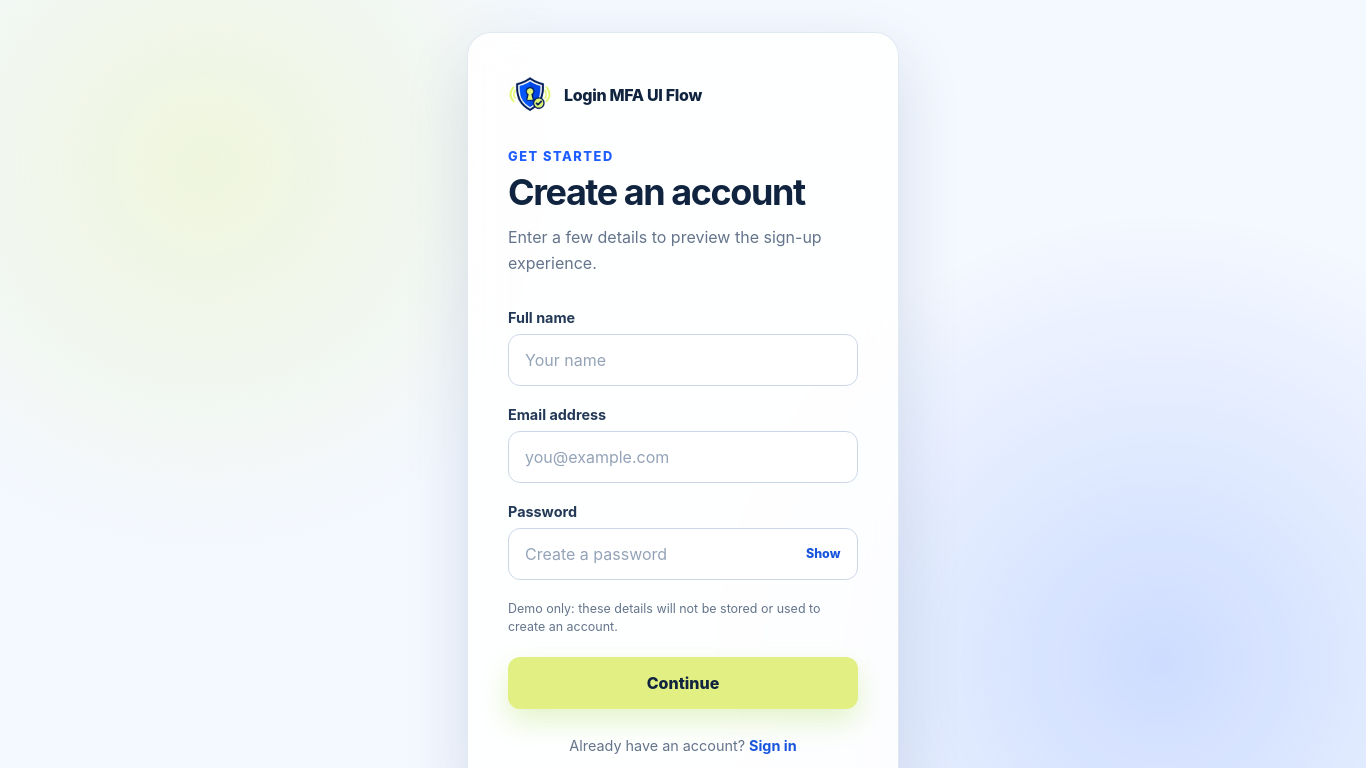
Test: application authentication flow › shows every applicable Sign Up name validation error
The image size is (1366, 768).
In the field labelled "Full name": (683, 360) [508, 334, 858, 386], type "1"
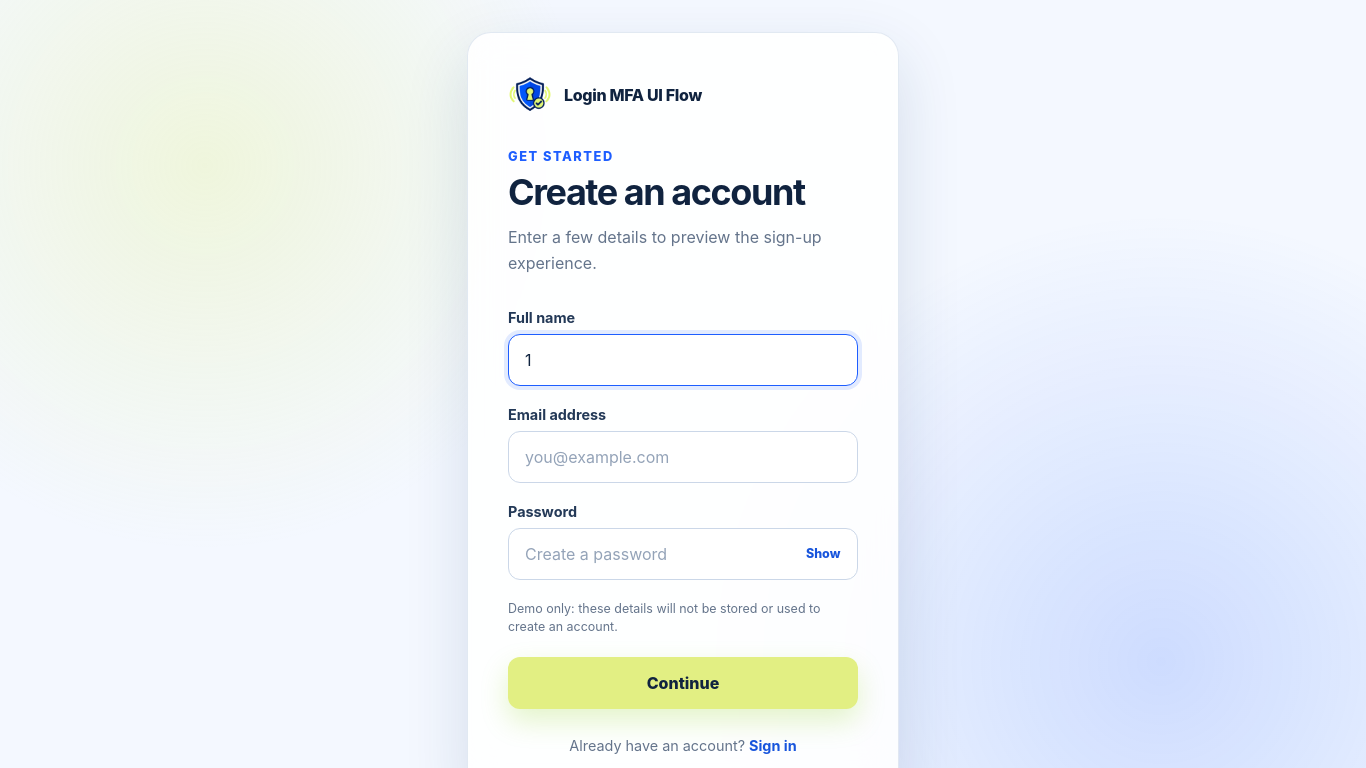
Click the button "Continue": (683, 683) [508, 657, 858, 709]
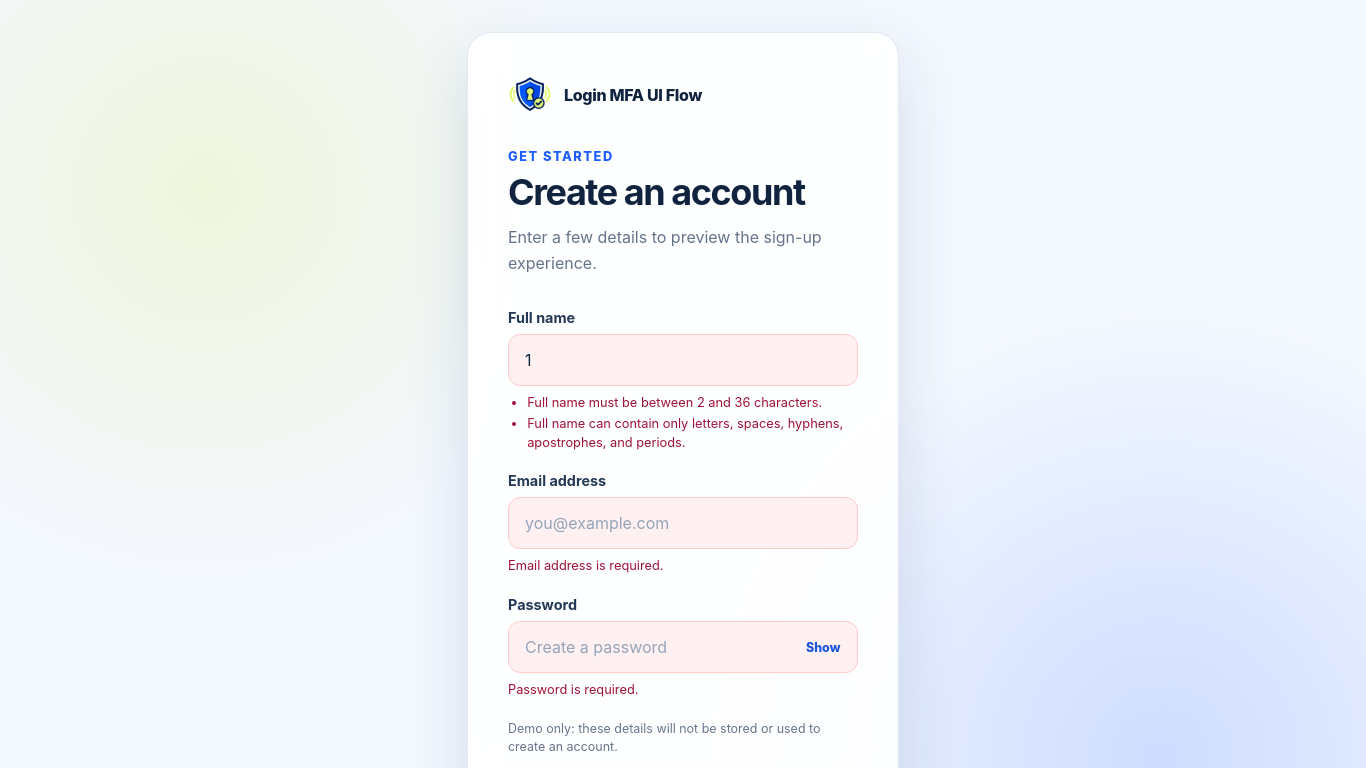
Expected: the list item "Full name must be between 2 and 36 characters." is shown, [527, 394, 858, 412]
Expected: the list item "Full name can contain only letters, spaces, hyphens, apostrophes, and periods." is shown, [527, 415, 858, 452]
